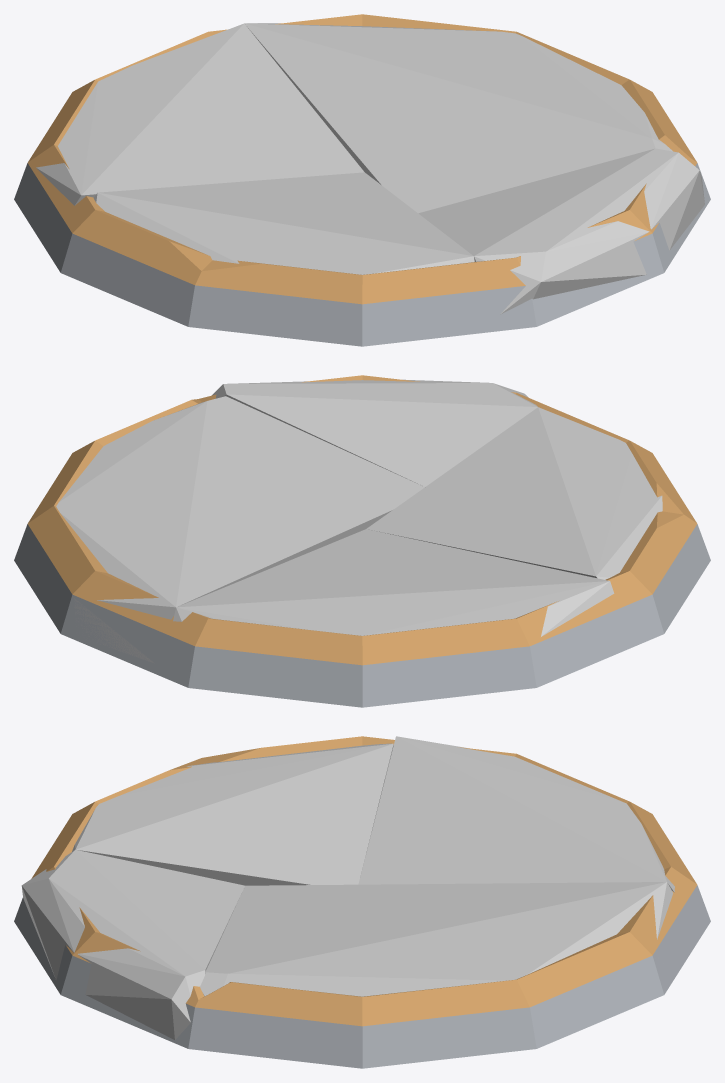
File: SM_Prop_Constellation_Rings_01.fbx
3 views of the same model, one above another, from view 1: azimuth 30°, elevation 25°; view 2: azimuth 150°, elevation 25°; view 3: azimuth 270°, elevation 25° (orthographic).
Parts seen in each view (by area): view 1: SM_Prop_Constellation_Rings_01_ConvexHulls, SM_Prop_Constellation_Rings_01; view 2: SM_Prop_Constellation_Rings_01_ConvexHulls, SM_Prop_Constellation_Rings_01; view 3: SM_Prop_Constellation_Rings_01_ConvexHulls, SM_Prop_Constellation_Rings_01.
Boxes of the visible parts, bbox=[...] form: SM_Prop_Constellation_Rings_01_ConvexHulls: bbox=[36, 23, 704, 314]; SM_Prop_Constellation_Rings_01: bbox=[14, 14, 710, 346]; SM_Prop_Constellation_Rings_01_ConvexHulls: bbox=[56, 379, 662, 663]; SM_Prop_Constellation_Rings_01: bbox=[14, 375, 710, 707]; SM_Prop_Constellation_Rings_01_ConvexHulls: bbox=[21, 736, 674, 1039]; SM_Prop_Constellation_Rings_01: bbox=[14, 736, 710, 1068].
Bounding box in the file's own units: 156 × 156 × 13.87.
2 materials, 1 textured.
